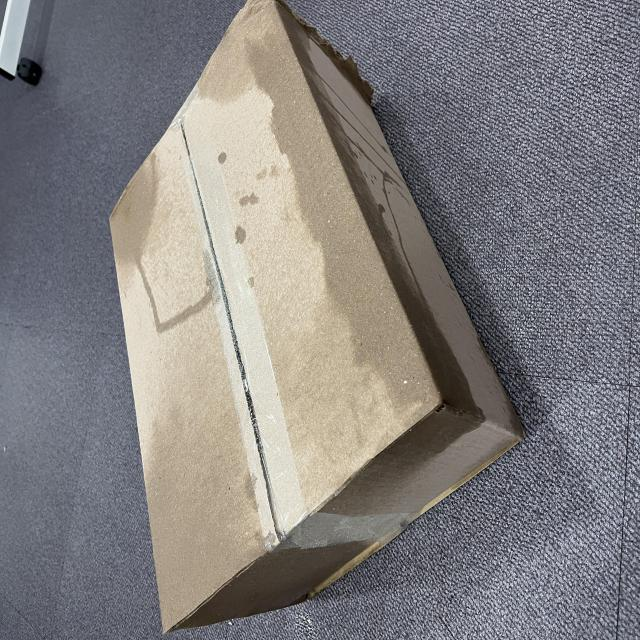wet: (0, 162, 480, 640)
